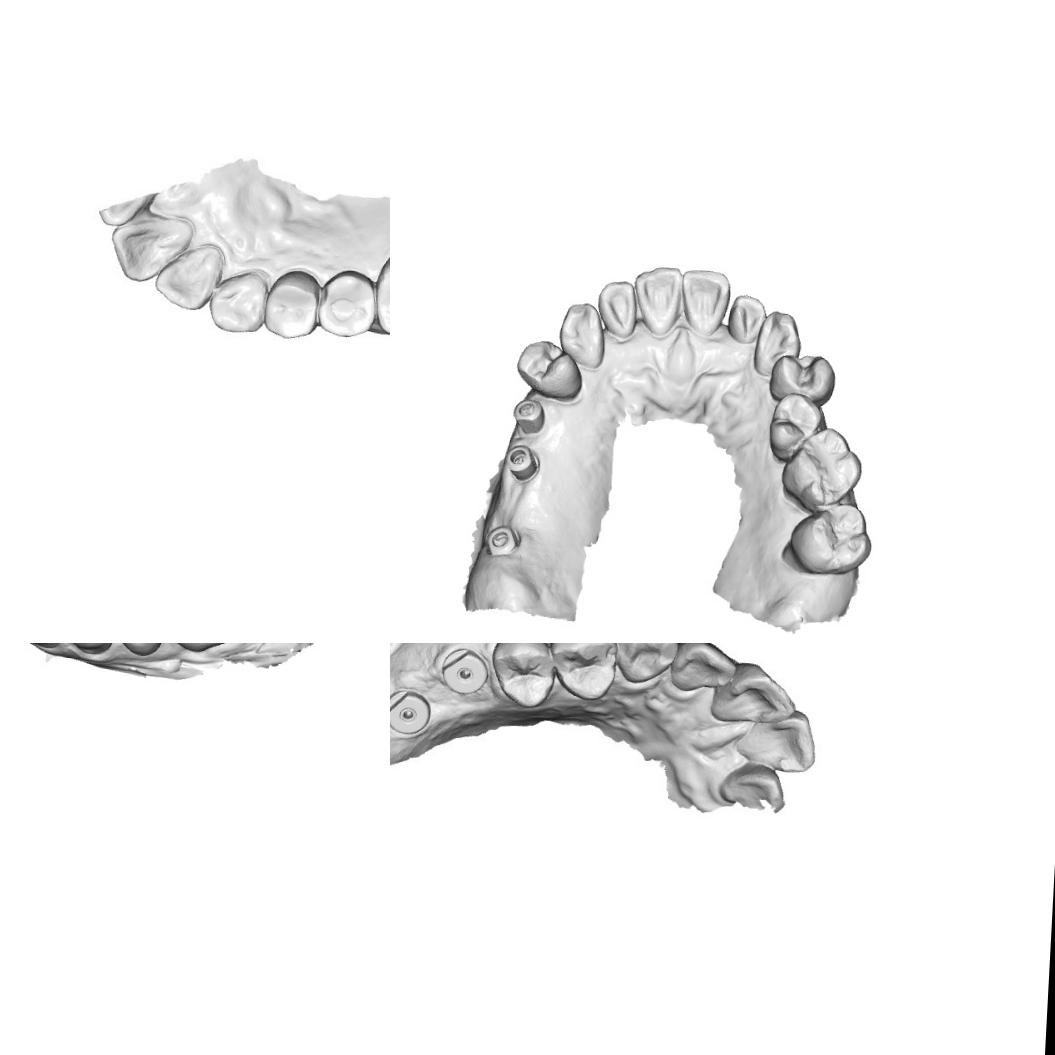canine: (204, 263, 270, 334), (750, 307, 804, 380), (556, 298, 607, 370), (612, 643, 683, 688)
implant: (390, 679, 433, 739), (440, 646, 486, 698), (502, 443, 540, 484), (482, 523, 522, 559), (511, 396, 547, 435)
incisor: (705, 661, 802, 728), (108, 214, 192, 287), (730, 708, 814, 772), (148, 244, 222, 312), (630, 264, 686, 338), (668, 643, 738, 701), (678, 266, 732, 337), (594, 277, 639, 342), (724, 292, 768, 346)
molar: (778, 422, 866, 514), (785, 496, 875, 578), (371, 244, 390, 338)
premolar: (486, 643, 562, 708), (512, 338, 585, 402), (315, 266, 377, 340), (765, 390, 825, 464), (263, 269, 321, 340), (766, 350, 838, 406), (553, 643, 616, 704), (112, 643, 164, 657), (60, 643, 114, 656)
